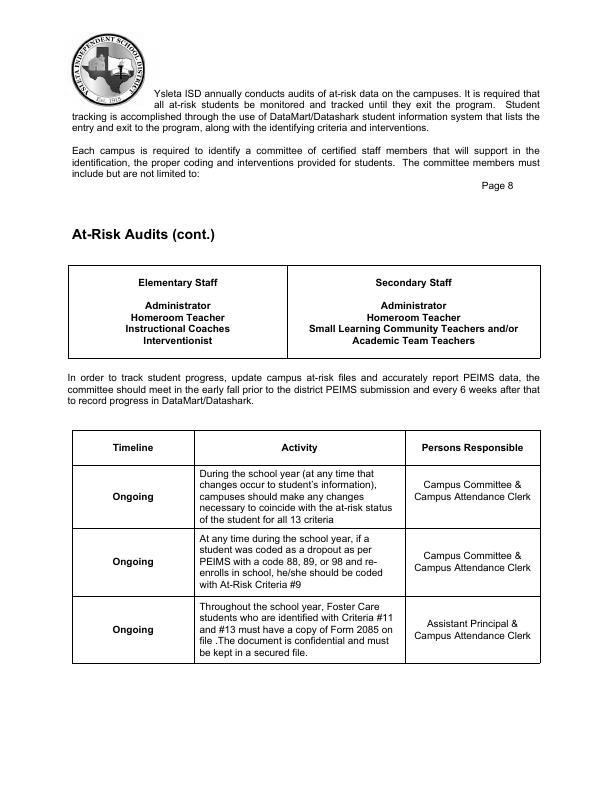table: (67, 425, 548, 672), (62, 261, 549, 363)
text: (63, 371, 548, 407), (67, 144, 548, 180), (70, 110, 545, 135), (153, 86, 543, 110), (67, 221, 220, 244), (476, 180, 526, 197)
